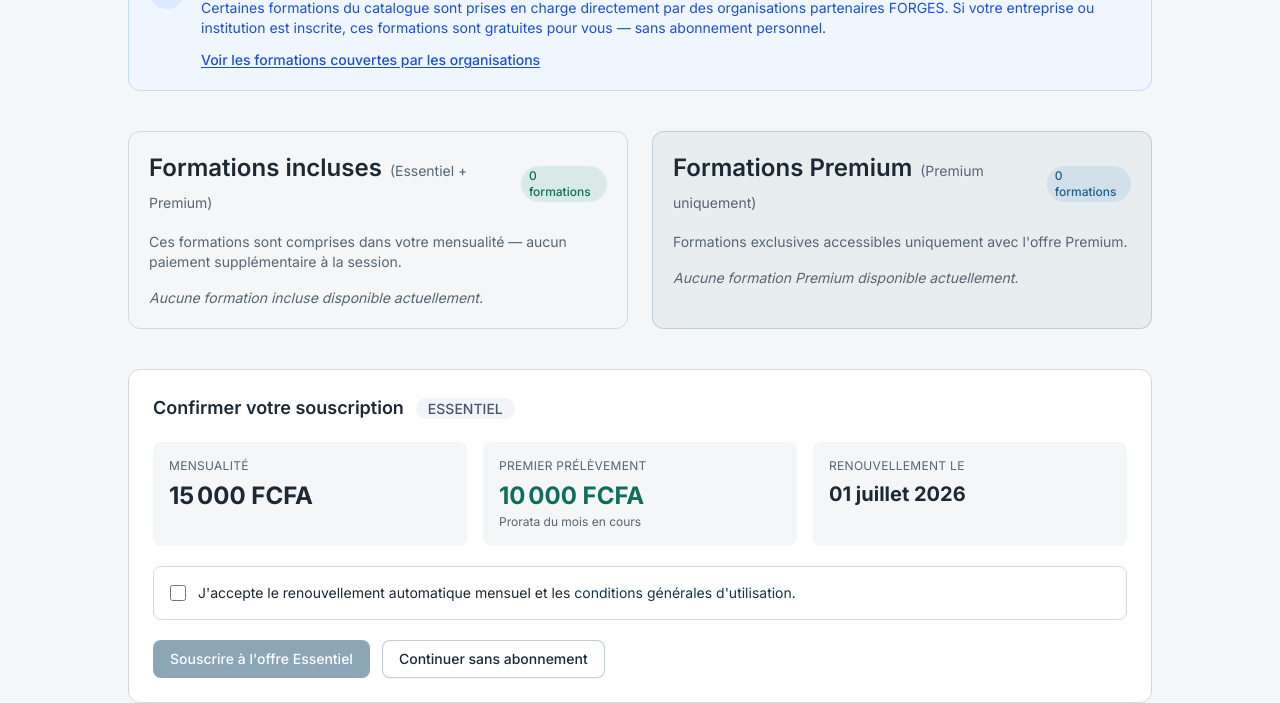
Test: SouscrireAbonnement › active le bouton souscrire apres consentement
(page scrolled)
Click the checkbox with test id "consent-checkbox".
click(178, 593)  # box [170,585,186,601]
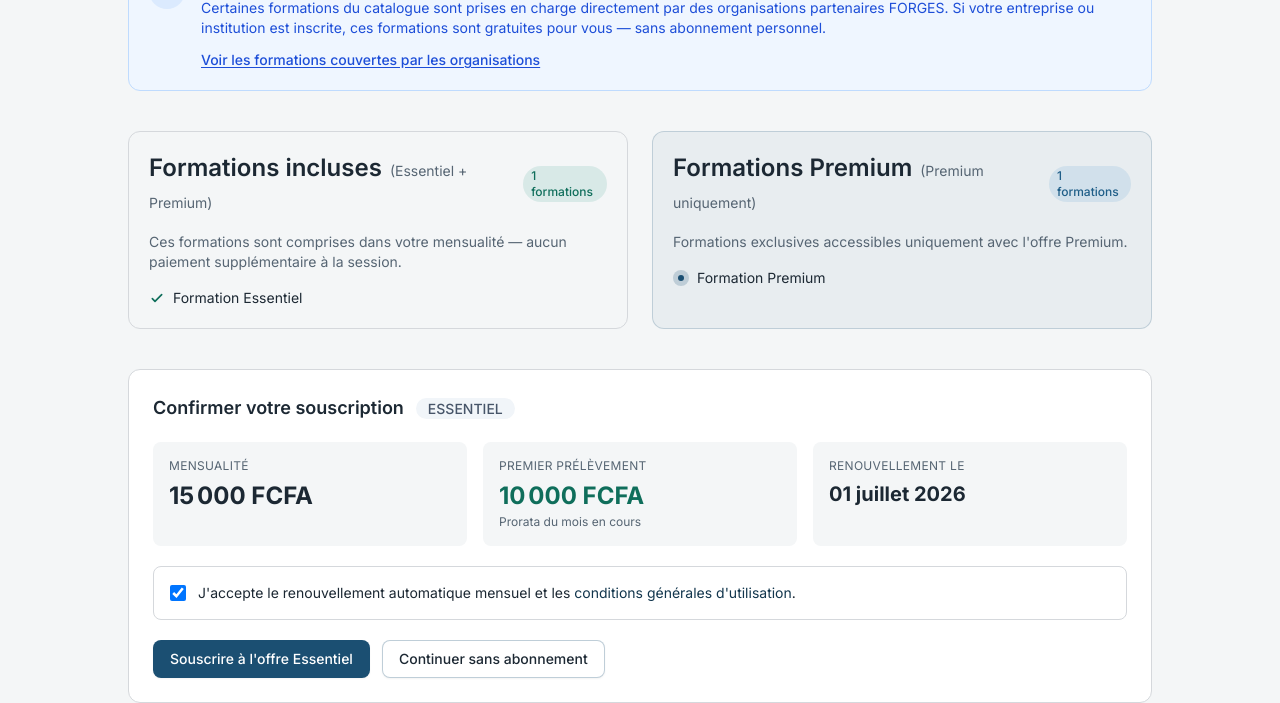
expect the button with test id "btn-souscrire" is enabled: met, box [153,640,370,678]
